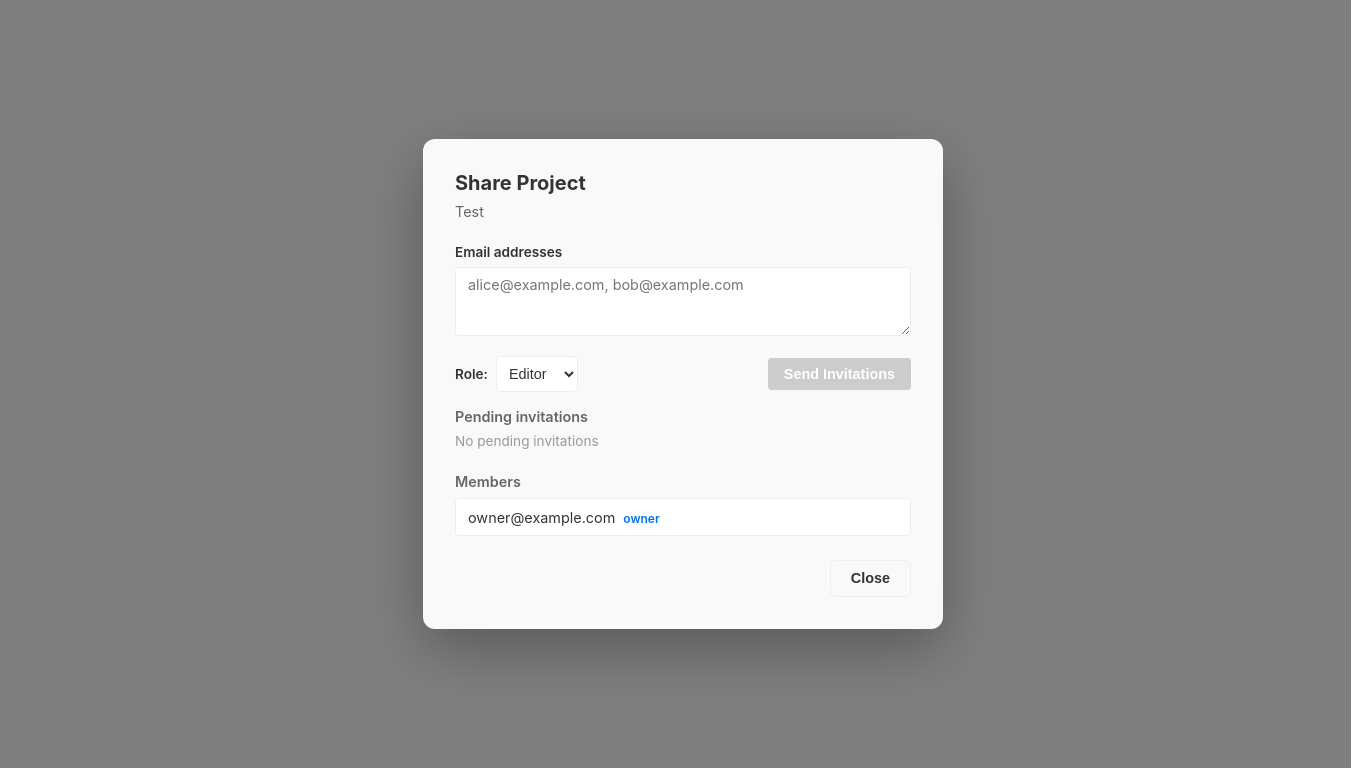
Test: ShareDialog invitations › sending › sends nothing, keeps the entry and lists the rejected entries when no address is valid
In the text box labelled "Email addresses": (683, 301) [455,267,911,336], type "alice-at-example, bob@"
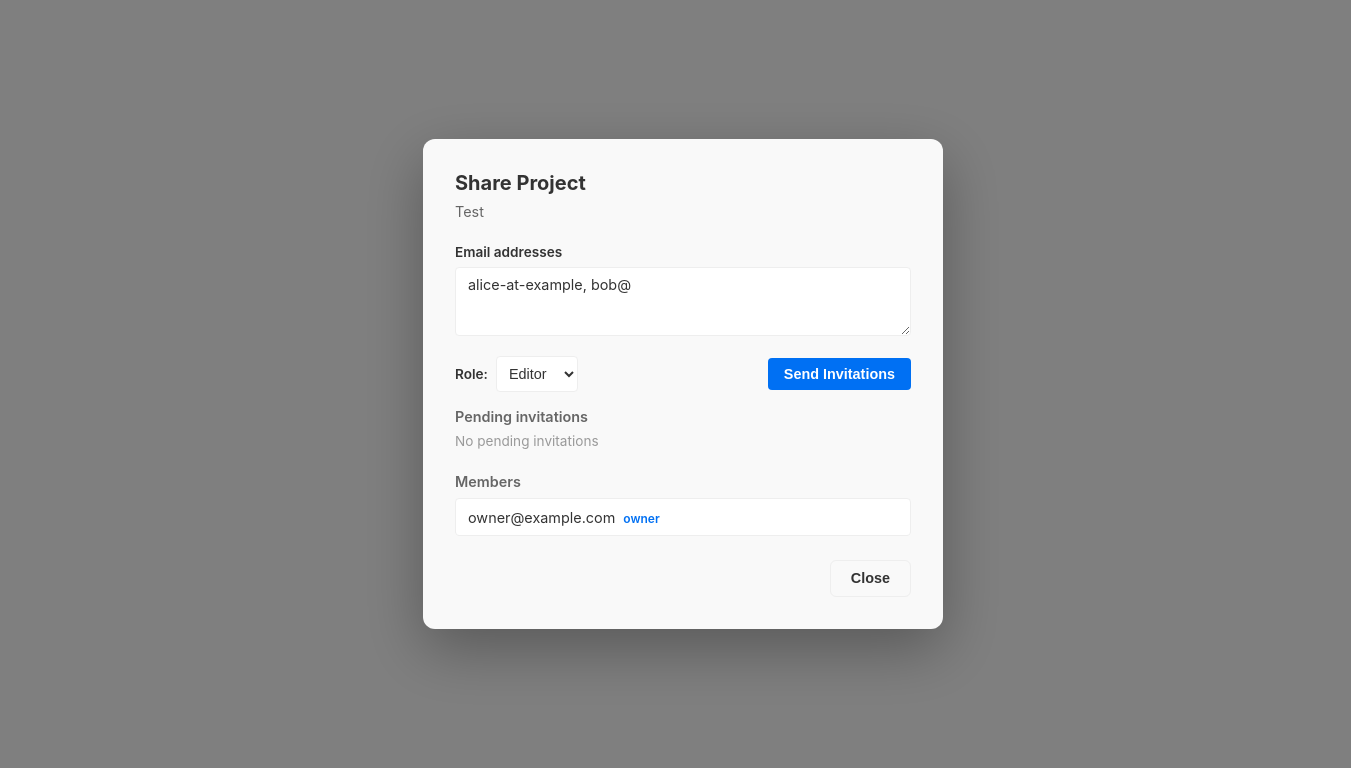
Click the button "Send Invitations": (839, 374) [768,358,911,390]
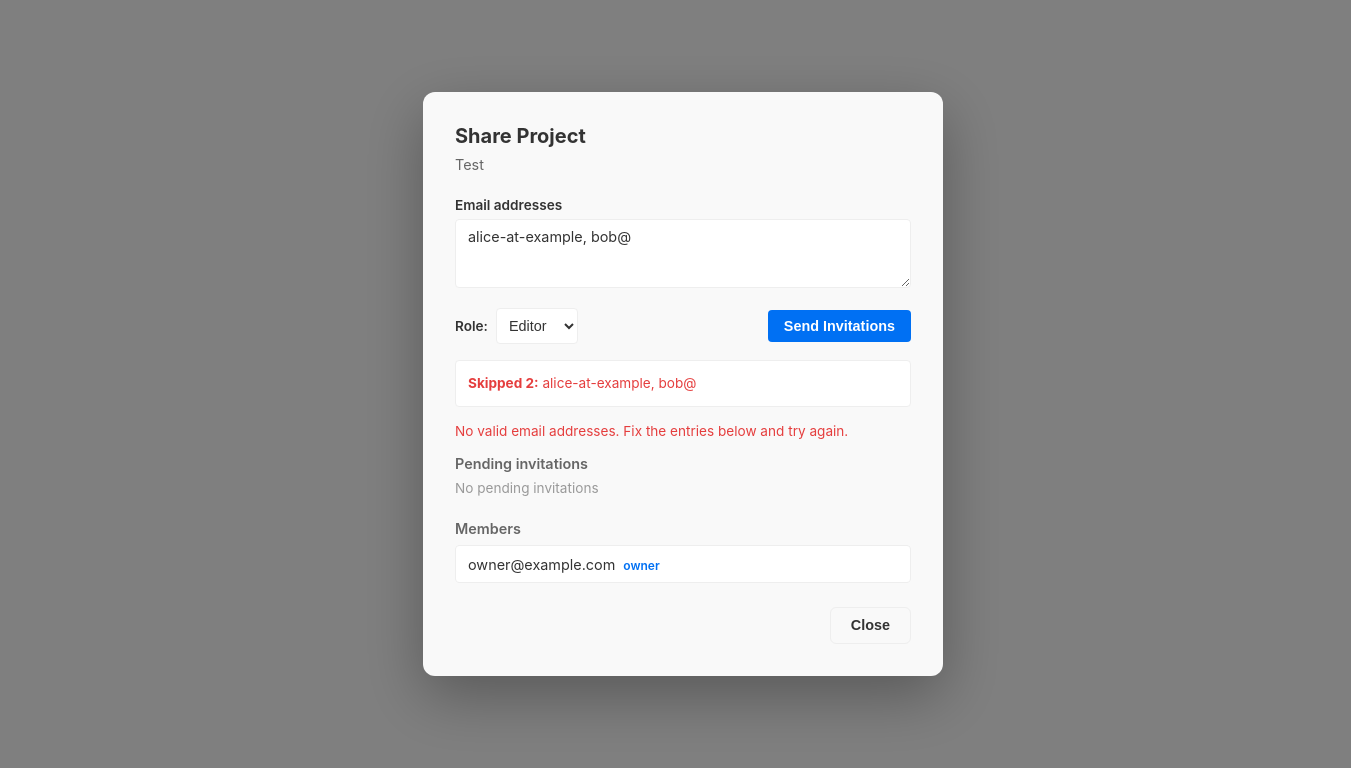
Now the text "No valid email addresses. Fix the entries below and try again." is shown, box [455,423,911,439]
Now the element showing "Skipped 2: alice-at-example, bob@" is shown, box [455,360,911,407]
